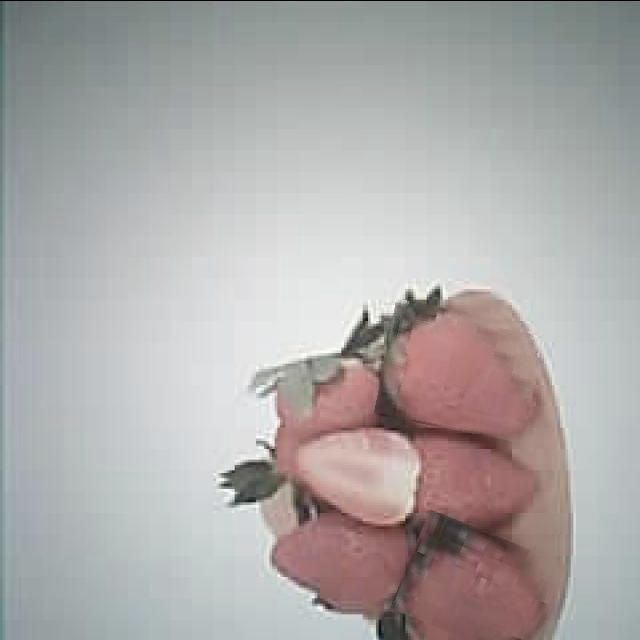strawberry: (379, 306, 541, 436), (397, 521, 561, 640)
